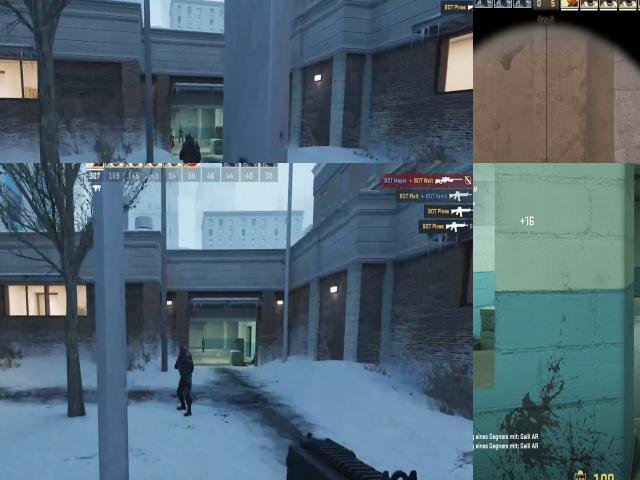CT: (177, 129, 203, 163), (176, 343, 196, 386)
CT-Head: (183, 131, 197, 152), (178, 346, 188, 362)
